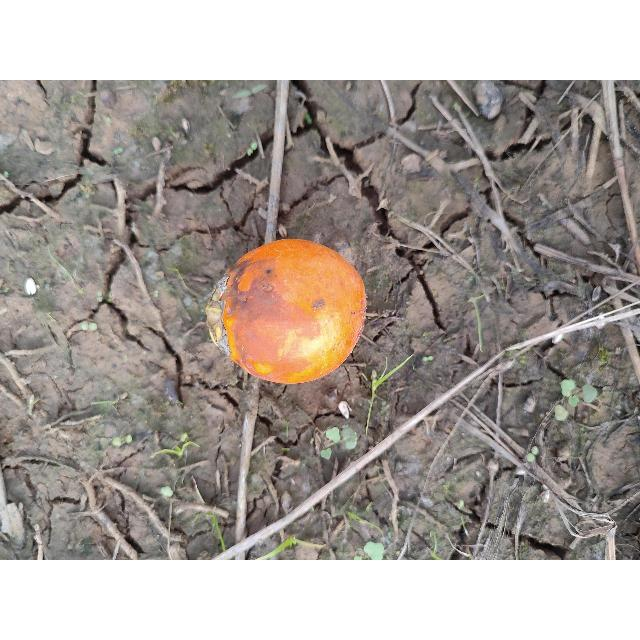good: (216, 240, 367, 387)
